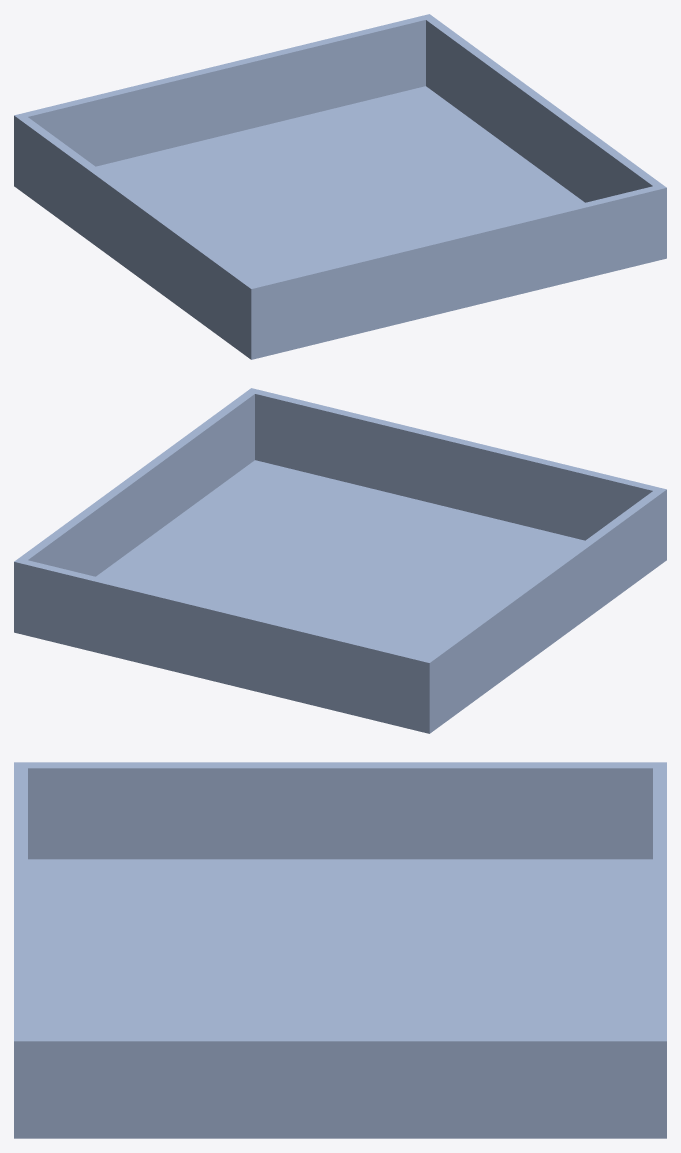
Rendered from Post_Ozone_Contact_Tank_expansion.glb.
3 renders of one model, top to bottom at view 1: azimuth 30°, elevation 25°; view 2: azimuth 150°, elevation 25°; view 3: azimuth 270°, elevation 25°, orthographic. The views are drawn at different scales.
Parts seen in each view (by area): view 1: Floor1; view 2: Floor1; view 3: Floor1.
Part boxes in pixels (box(x1,y1,x2,y2)): Floor1: box(14, 14, 666, 359); Floor1: box(14, 388, 666, 733); Floor1: box(14, 762, 666, 1138).
Size of the model in its own units: 38.07 by 6.2 by 37.66.
